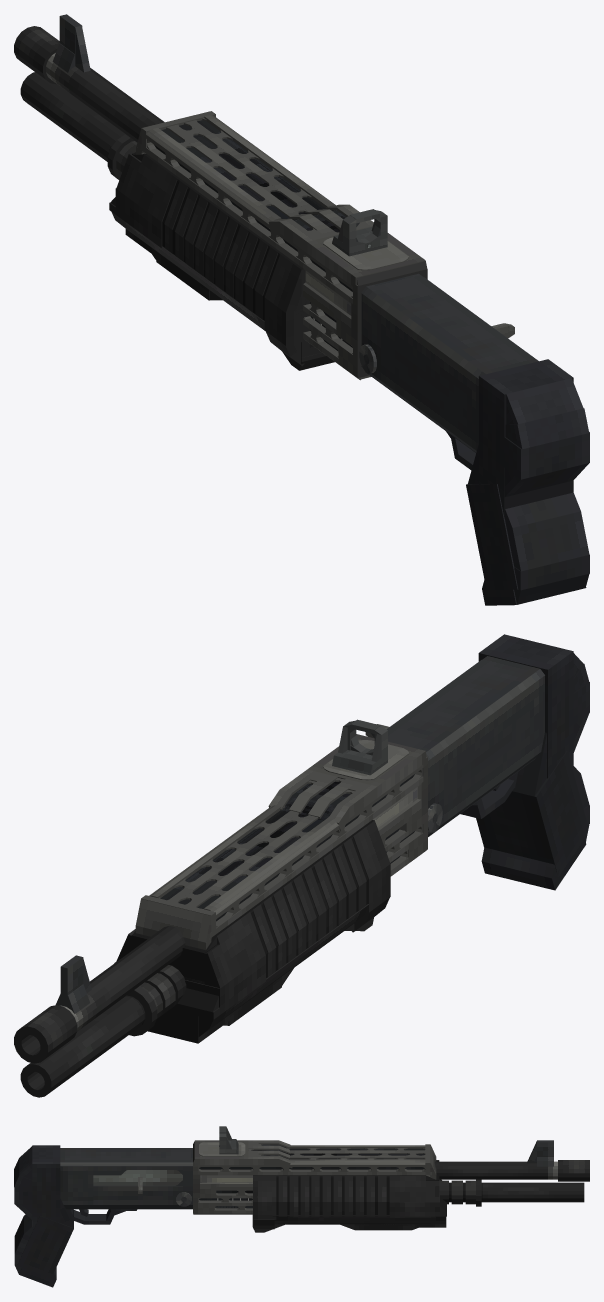
The model's file is minecraft_-_hl2_spas-12.glb.
3 views of the same model, one above another, from view 1: azimuth 30°, elevation 25°; view 2: azimuth 150°, elevation 25°; view 3: azimuth 270°, elevation 25° (orthographic). The views are drawn at different scales.
Visible parts, largest first — view 1: base_mnl_cover_738, base_mnm_roof_139, grm_b_1, grm_a_7, grc_d_8, grm_d_2, heat_bg_main_438, grc_h_5, heat_inb_roof_165, grc_g_3, pump_curve_l_e_722, cube_20 (+22 smaller); view 2: base_mnl_cover_738, grm_a_7, base_mnm_roof_139, grm_b_1, heat_bg_main_438, heat_inb_roof_165, cube_25, pump_curve_l_e_722, cube_20, pump_cube_mid_721, cube_577, pump_curve_l_d_684 (+29 smaller); view 3: grm_b_1, grm_a_7, base_mnm_roof_139, base_mnr_cover_774, heat_bg_main_438, heat_inb_roof_165, base_mnr_rear_0, base_ch_main_800, pump_curve_r_e_723, pump_curve_r_c_687, pump_bd_curve_c_733, pump_cube_mid_721 (+54 smaller).
Part boxes in pixels (bbox=[...]): base_mnl_cover_738: bbox=[361, 293, 478, 450]; base_mnm_roof_139: bbox=[366, 273, 538, 374]; grm_b_1: bbox=[479, 359, 573, 518]; grm_a_7: bbox=[466, 484, 518, 589]; grc_d_8: bbox=[507, 511, 589, 571]; grm_d_2: bbox=[504, 432, 589, 479]; heat_bg_main_438: bbox=[154, 120, 352, 350]; grc_h_5: bbox=[506, 378, 583, 424]; heat_inb_roof_165: bbox=[140, 144, 352, 303]; grc_g_3: bbox=[505, 408, 589, 449]; pump_curve_l_e_722: bbox=[128, 154, 177, 221]; cube_20: bbox=[307, 226, 425, 287]; base_mnl_cover_738: bbox=[428, 676, 544, 834]; grm_a_7: bbox=[476, 751, 588, 872]; base_mnm_roof_139: bbox=[387, 656, 539, 751]; grm_b_1: bbox=[478, 634, 573, 778]; heat_bg_main_438: bbox=[160, 774, 414, 921]; heat_inb_roof_165: bbox=[210, 776, 423, 938]; cube_25: bbox=[135, 899, 211, 942]; pump_curve_l_e_722: bbox=[216, 912, 265, 978]; cube_20: bbox=[307, 734, 425, 797]; pump_cube_mid_721: bbox=[114, 955, 265, 1014]; cube_577: bbox=[186, 815, 318, 907]; pump_curve_l_d_684: bbox=[201, 904, 368, 1028]; grm_b_1: bbox=[32, 1145, 60, 1231]; grm_a_7: bbox=[17, 1216, 73, 1278]; base_mnm_roof_139: bbox=[60, 1148, 192, 1161]; base_mnr_cover_774: bbox=[93, 1185, 192, 1204]; heat_bg_main_438: bbox=[199, 1148, 425, 1208]; heat_inb_roof_165: bbox=[198, 1169, 431, 1175]; base_mnr_rear_0: bbox=[60, 1166, 93, 1204]; base_ch_main_800: bbox=[93, 1170, 182, 1185]; pump_curve_r_e_723: bbox=[389, 1176, 425, 1201]; pump_curve_r_c_687: bbox=[272, 1215, 445, 1220]; pump_bd_curve_c_733: bbox=[276, 1177, 389, 1201]; pump_cube_mid_721: bbox=[389, 1179, 439, 1216].
Bounding box in the file's own units: 0.2487 × 0.5129 × 1.8.
Materials: 6 (6 with a texture image).
